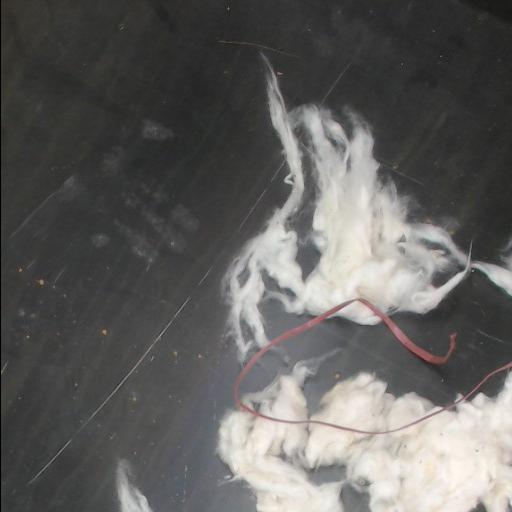conveyor belt: (1, 0, 512, 511), (261, 300, 309, 338), (341, 487, 368, 511), (310, 466, 343, 482)
cotton: (226, 78, 512, 361), (230, 85, 467, 355), (218, 376, 512, 511), (241, 270, 512, 409), (311, 372, 438, 430), (243, 367, 309, 419), (116, 461, 152, 511), (333, 302, 380, 324)
thread: (234, 297, 512, 434)
